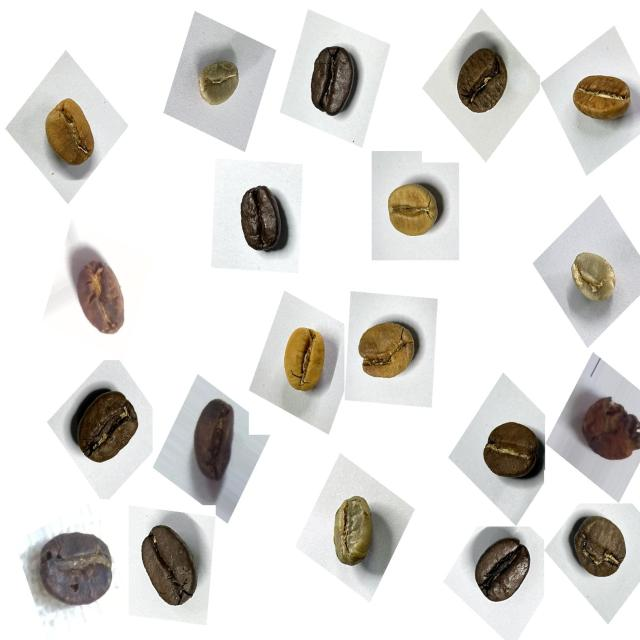bad: (32, 521, 119, 617), (63, 242, 132, 345), (181, 387, 247, 490), (574, 382, 640, 475)
dark: (299, 33, 372, 128), (472, 404, 549, 491), (465, 530, 538, 616)
green: (319, 486, 387, 582), (561, 238, 627, 316), (190, 47, 247, 118)
light: (348, 307, 426, 395), (34, 86, 107, 180), (378, 167, 452, 252), (565, 54, 640, 136), (270, 313, 336, 405)
medium: (127, 514, 208, 625), (64, 381, 148, 479), (447, 38, 519, 128), (563, 506, 635, 592), (230, 173, 298, 261)
